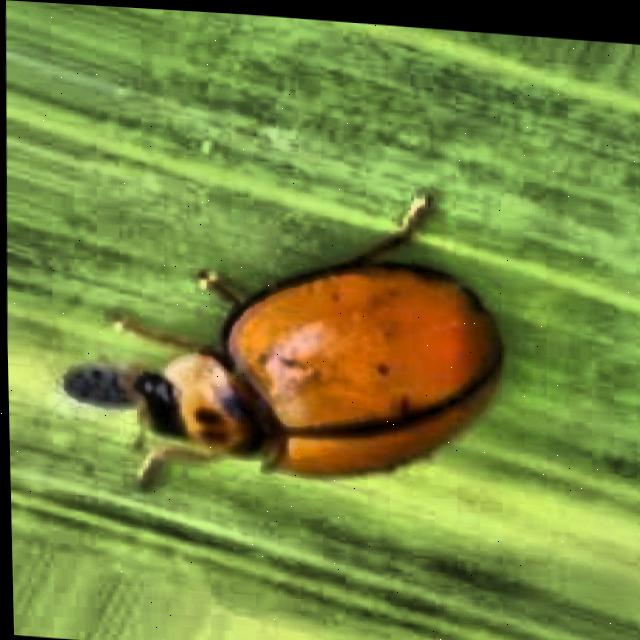Ladybug: (110, 216, 527, 505)
